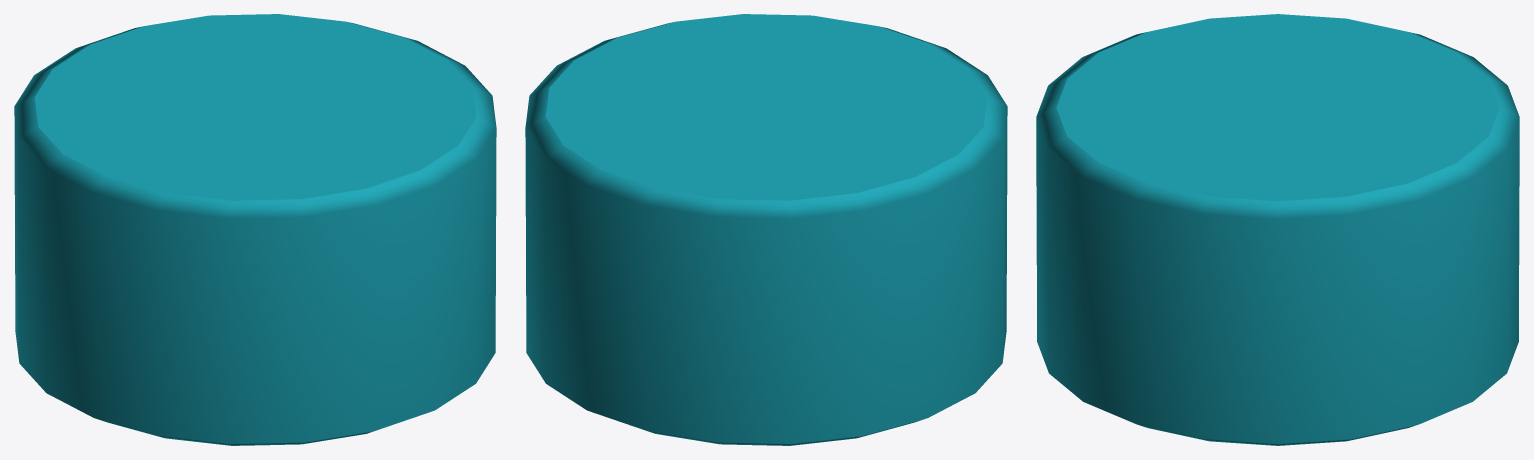
Rendered from Blocker_B_Top.fbx.
The picture shows the model from 3 angles, left to right: view 1: azimuth 30°, elevation 25°; view 2: azimuth 150°, elevation 25°; view 3: azimuth 270°, elevation 25°; orthographic projection.
Parts seen in each view (by area): view 1: Blocker_B_Top; view 2: Blocker_B_Top; view 3: Blocker_B_Top.
Part boxes in pixels (x1,y1,x2,y2): Blocker_B_Top: (14, 14, 496, 445); Blocker_B_Top: (525, 14, 1007, 445); Blocker_B_Top: (1036, 14, 1519, 445).
Bounding box in the file's own units: 2.64 × 1.47 × 2.64.
